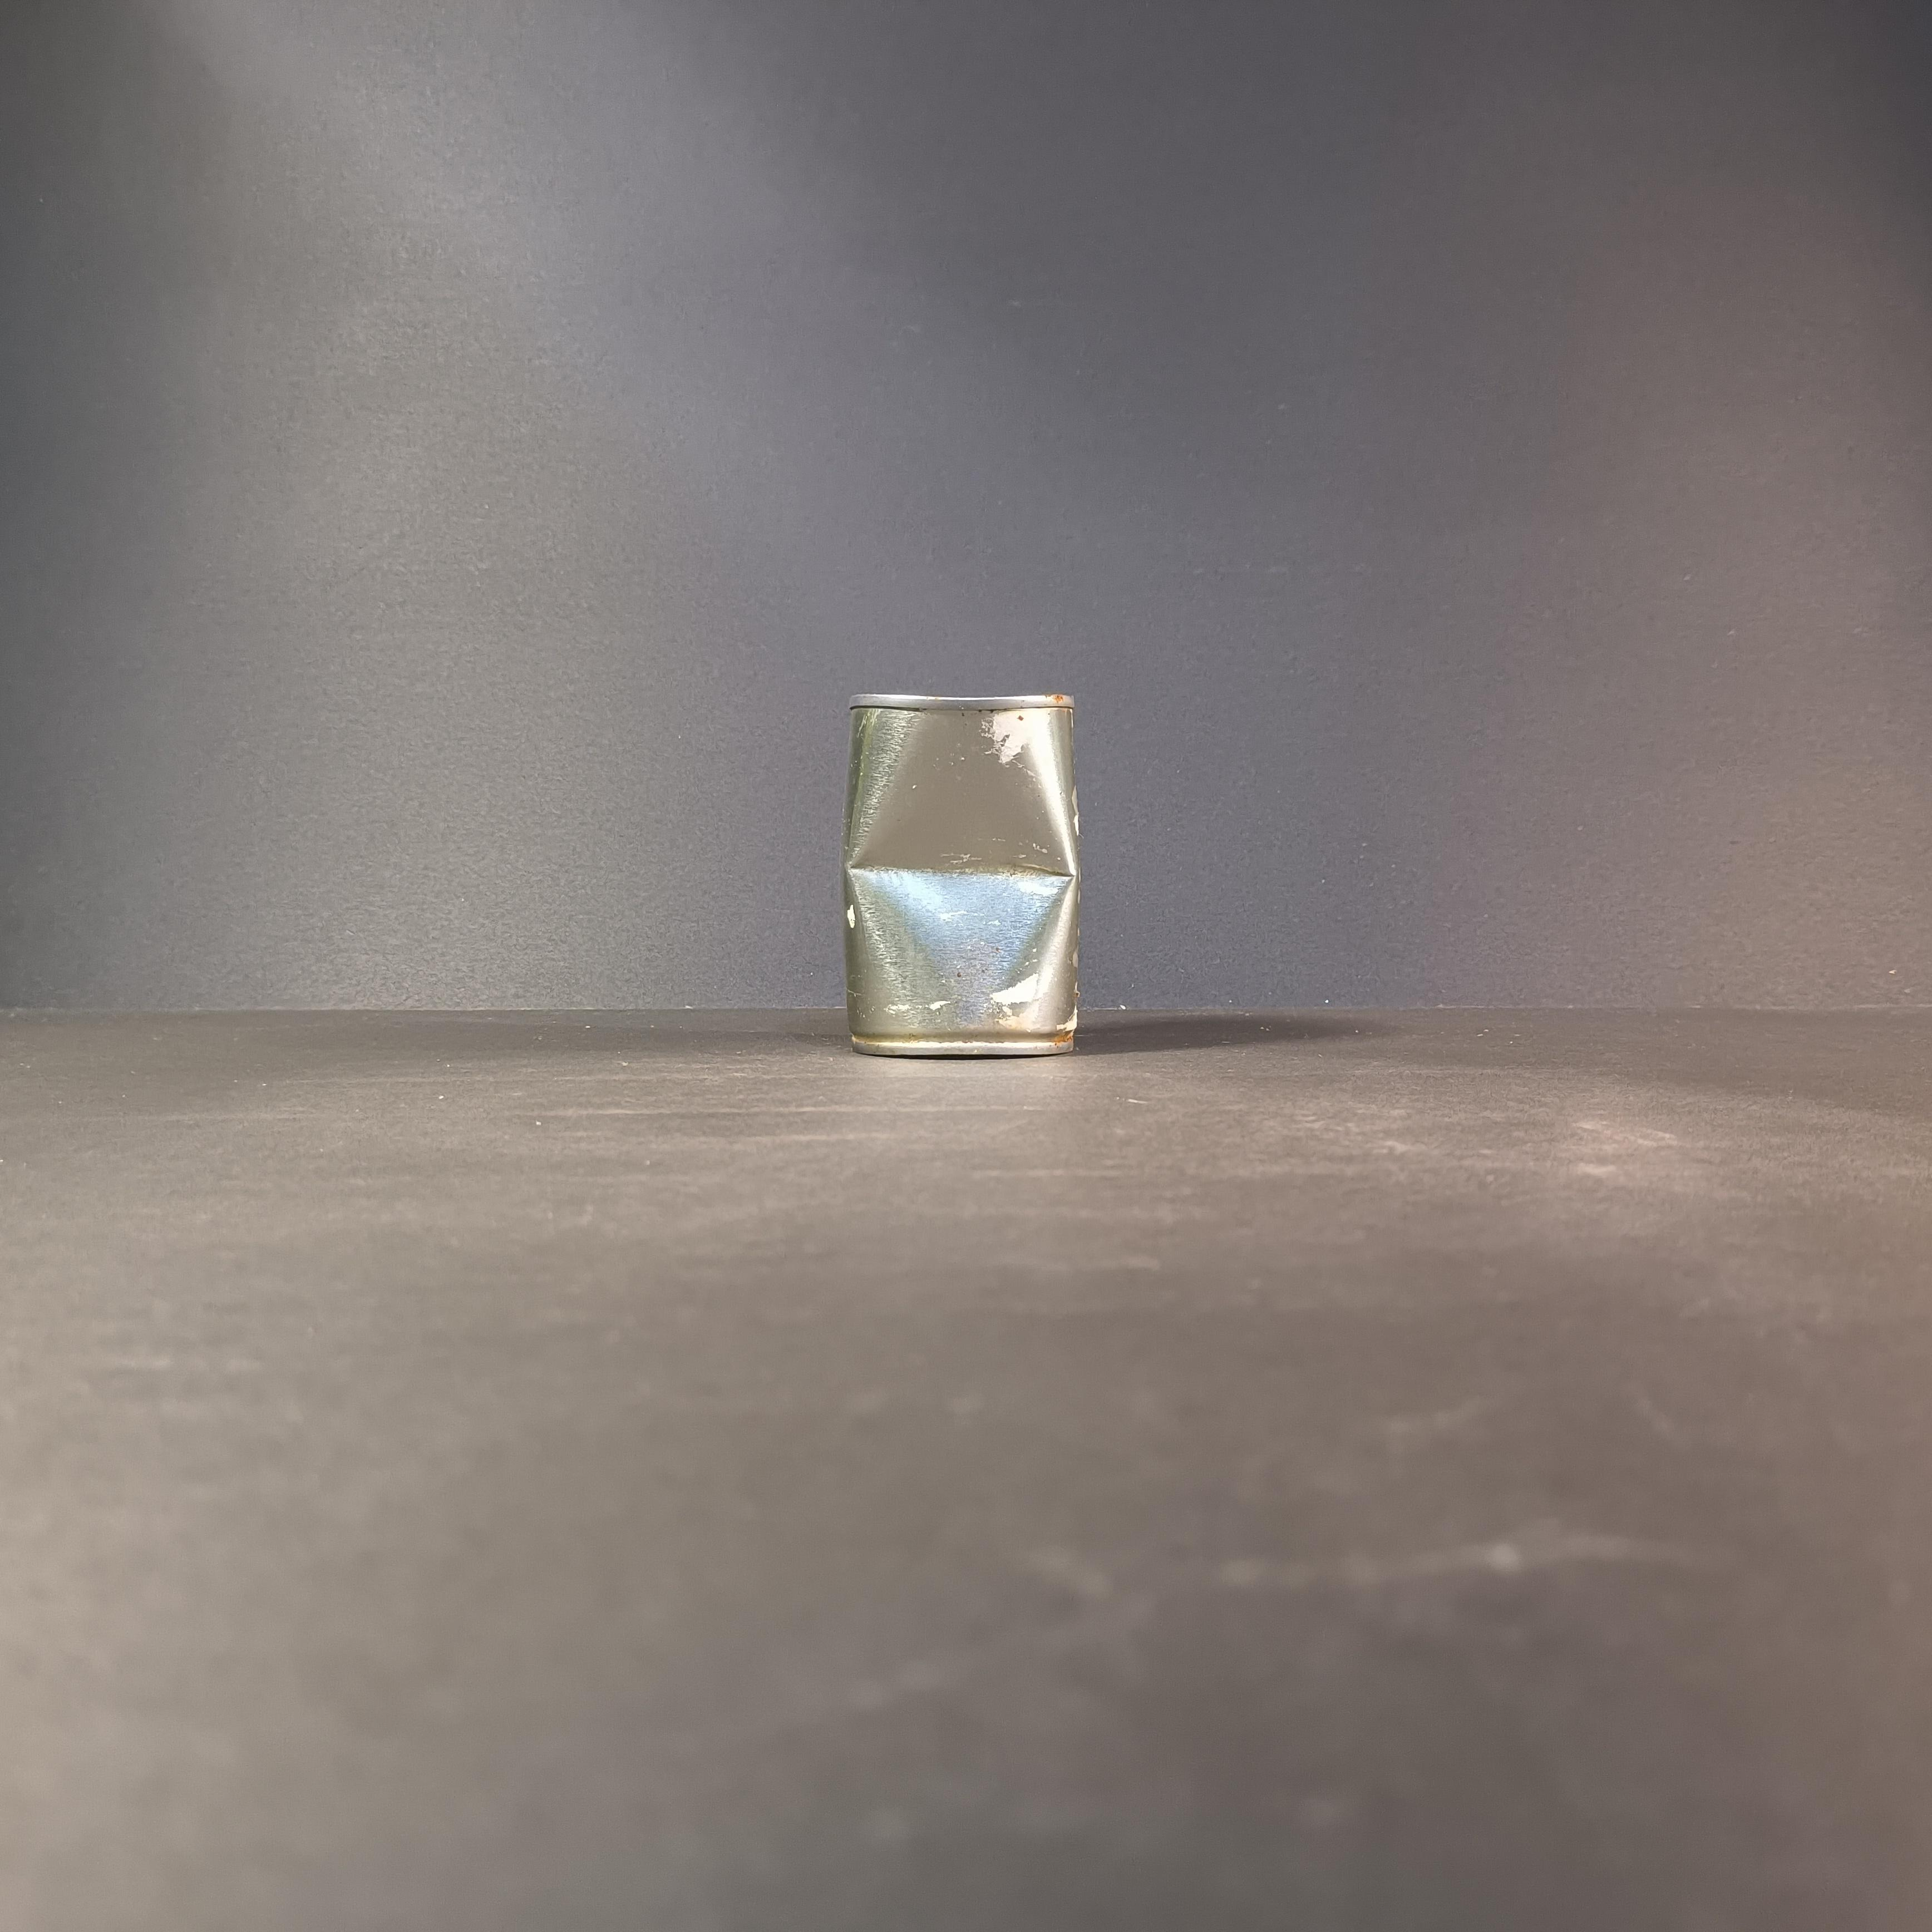Dented: (829, 682, 1099, 1096)
